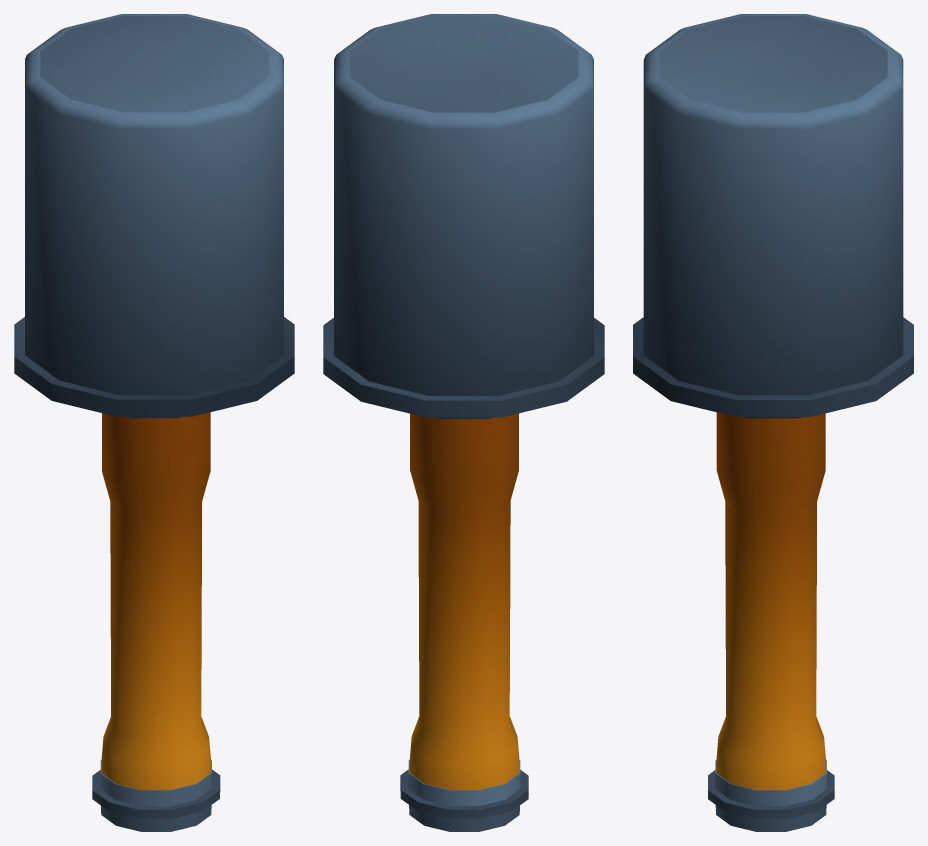
Rendered from grenade1.fbx.
3 views of the same model, side by side, from view 1: azimuth 30°, elevation 25°; view 2: azimuth 150°, elevation 25°; view 3: azimuth 270°, elevation 25° (orthographic).
Visible parts, largest first — view 1: grenade; view 2: grenade; view 3: grenade.
Boxes of the visible parts, x1,y1,x2,y2 form: grenade: [14, 14, 294, 831]; grenade: [323, 14, 604, 831]; grenade: [633, 14, 913, 831].
Bounding box in the file's own units: 38.34 × 112 × 38.34.
